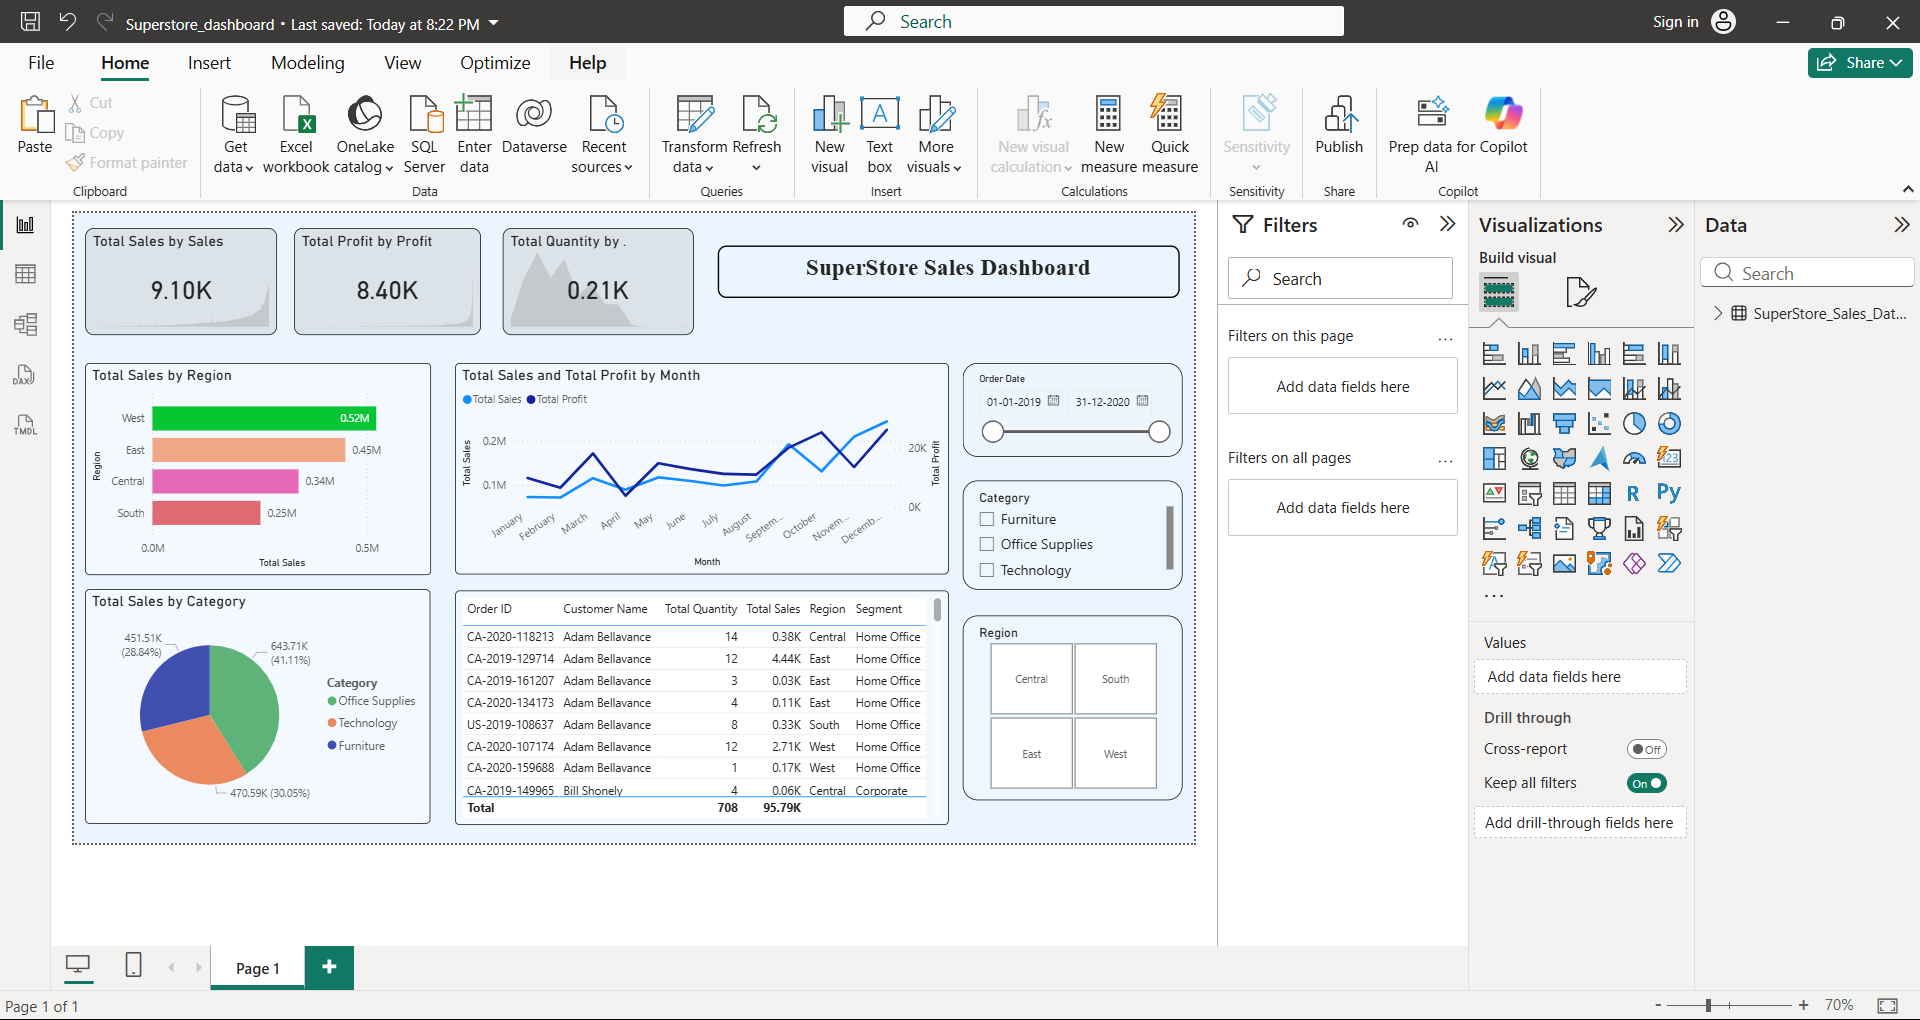

The page's visual inventory and layout, read from the dashboard file:
{"tool":"powerbi","page":{"name":"Page 1","canvas":[1280,720],"ordinal":0},"visuals":[{"type":"clusteredBarChart","fields":{"Y":["Sum(SuperStore_Sales_Dataset.Sales)"],"Category":["SuperStore_Sales_Dataset.Region"]},"box":[12.5,171.2,395,242.5],"z":0},{"type":"kpi","fields":{"TrendLine":["SuperStore_Sales_Dataset.Sales"],"Indicator":["Sum(SuperStore_Sales_Dataset.Sales)"]},"box":[12.5,16.7,219.4,122.2],"z":1000},{"type":"kpi","fields":{"TrendLine":["SuperStore_Sales_Dataset.Profit"],"Indicator":["Sum(SuperStore_Sales_Dataset.Profit)"]},"box":[251.4,16.7,213.9,122.2],"z":2000},{"type":"kpi","fields":{"Indicator":["Sum(SuperStore_Sales_Dataset.Quantity)"],"TrendLine":["SuperStore_Sales_Dataset.Quantity"]},"box":[490.3,16.7,218.1,122.2],"z":3000},{"type":"lineChart","fields":{"Y":["Sum(SuperStore_Sales_Dataset.Sales)"],"Category":["SuperStore_Sales_Dataset.Order Date.Variation.Date Hierarchy.Month"],"Y2":["Sum(SuperStore_Sales_Dataset.Profit)"]},"box":[436.1,170.8,563.9,241.7],"z":4000},{"type":"pieChart","fields":{"Category":["SuperStore_Sales_Dataset.Category"],"Y":["Sum(SuperStore_Sales_Dataset.Sales)"]},"box":[12.5,430.6,394.4,268.1],"z":4001},{"type":"slicer","fields":{"Values":["SuperStore_Sales_Dataset.Order Date"]},"box":[1015.3,170.8,251.4,106.9],"z":4002},{"type":"slicer","fields":{"Values":["SuperStore_Sales_Dataset.Category"]},"box":[1015.3,305.6,251.4,125],"z":4003},{"type":"slicer","fields":{"Values":["SuperStore_Sales_Dataset.Region"]},"box":[1015.3,459.7,251.4,211.1],"z":4004},{"type":"textbox","box":[736.1,37.5,527.8,59.7],"z":4005},{"type":"tableEx","fields":{"Values":["SuperStore_Sales_Dataset.Order ID","SuperStore_Sales_Dataset.Customer Name","Sum(SuperStore_Sales_Dataset.Quantity)","Sum(SuperStore_Sales_Dataset.Sales)","SuperStore_Sales_Dataset.Region","SuperStore_Sales_Dataset.Segment"]},"box":[436.1,431.9,563.9,268.1],"z":4006}]}

Visuals, with their boxes on the page's 1280x720 design canvas (x1, y1, x2, y2). These are canvas units, not pixel positions in the 1920x1020 screenshot, which may show the page scaled, cropped or inside an application window:
clusteredBarChart - Sum(SuperStore_Sales_Dataset.Sales) x SuperStore_Sales_Dataset.Region: {"x1": 12, "y1": 171, "x2": 408, "y2": 414}
kpi - SuperStore_Sales_Dataset.Sales x Sum(SuperStore_Sales_Dataset.Sales): {"x1": 12, "y1": 17, "x2": 232, "y2": 139}
kpi - SuperStore_Sales_Dataset.Profit x Sum(SuperStore_Sales_Dataset.Profit): {"x1": 251, "y1": 17, "x2": 465, "y2": 139}
kpi - Sum(SuperStore_Sales_Dataset.Quantity) x SuperStore_Sales_Dataset.Quantity: {"x1": 490, "y1": 17, "x2": 708, "y2": 139}
lineChart - Sum(SuperStore_Sales_Dataset.Sales) x SuperStore_Sales_Dataset.Order Date.Variation.Date Hierarchy.Month: {"x1": 436, "y1": 171, "x2": 1000, "y2": 412}
pieChart - SuperStore_Sales_Dataset.Category x Sum(SuperStore_Sales_Dataset.Sales): {"x1": 12, "y1": 431, "x2": 407, "y2": 699}
slicer - SuperStore_Sales_Dataset.Order Date: {"x1": 1015, "y1": 171, "x2": 1267, "y2": 278}
slicer - SuperStore_Sales_Dataset.Category: {"x1": 1015, "y1": 306, "x2": 1267, "y2": 431}
slicer - SuperStore_Sales_Dataset.Region: {"x1": 1015, "y1": 460, "x2": 1267, "y2": 671}
textbox: {"x1": 736, "y1": 38, "x2": 1264, "y2": 97}
tableEx - SuperStore_Sales_Dataset.Order ID x SuperStore_Sales_Dataset.Customer Name: {"x1": 436, "y1": 432, "x2": 1000, "y2": 700}
